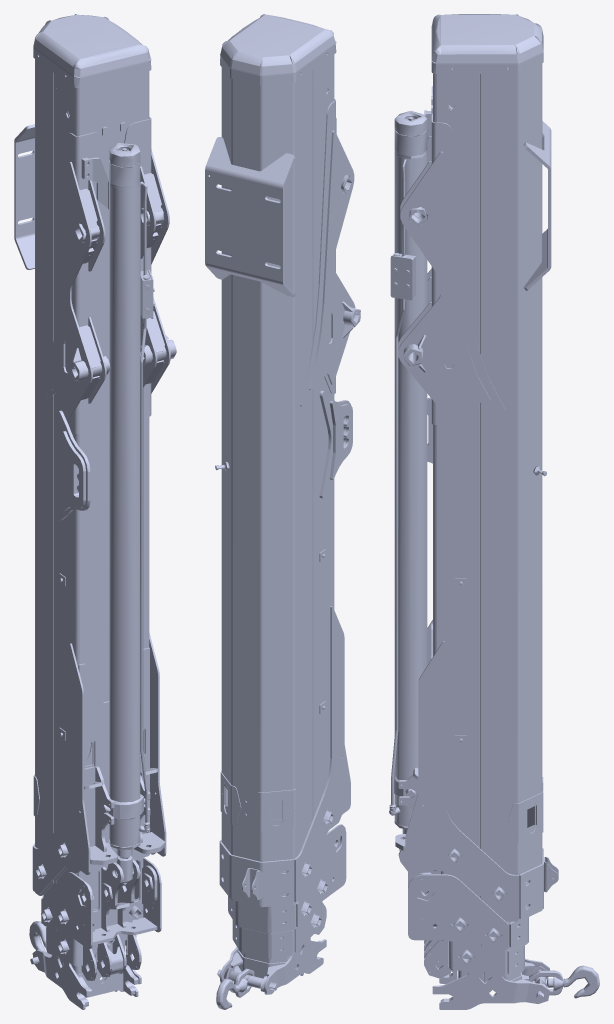
The model's file is braccio-m250.glb.
3 views of the same model, side by side, from view 1: azimuth 30°, elevation 25°; view 2: azimuth 150°, elevation 25°; view 3: azimuth 270°, elevation 25° (orthographic). The views are drawn at different scales.
Parts seen in each view (by area): view 1: LM0287, CN3543K_Q, LM0286, LM0294, LM0288 (×2), CR0082, LM0297 (×2), LM0289, LM0305 (×2), LM2725, VG1265_Q, LM0308 (×2) (+23 smaller); view 2: LM0286, LM0287, LM2725, CR0082, LM0288, LM0297, LM0292, LM0305, LM0294, LM0300 (×2), LM0315, LM0324 (+6 smaller); view 3: LM0286, LM0287, CN3543K_Q, LM0288, LM0297, CR0082, LM0305, LM0294, LM0329, VG1265_Q, LM2725, LM0318 (+8 smaller).
Part boxes in pixels (box(x1,y1,x2,y2)): LM0287: box(54, 71, 149, 882); CN3543K_Q: box(109, 182, 140, 847); LM0286: box(35, 59, 53, 895); LM0294: box(39, 116, 151, 433); LM0288 (×2): box(33, 632, 166, 894); CR0082: box(33, 14, 151, 88); LM0297 (×2): box(45, 149, 170, 418); LM0289: box(78, 647, 149, 871); LM0305 (×2): box(41, 857, 161, 949); LM2725: box(14, 124, 34, 269); VG1265_Q: box(140, 318, 148, 822); LM0308 (×2): box(101, 859, 140, 931); LM0286: box(221, 67, 312, 907); LM0287: box(312, 54, 334, 827); LM2725: box(205, 137, 295, 296); CR0082: box(220, 14, 336, 85); LM0288: box(294, 606, 350, 901); LM0297: box(309, 130, 355, 390); LM0292: box(219, 841, 294, 905); LM0305: box(296, 824, 346, 926); LM0294: box(300, 99, 335, 406); LM0300 (×2): box(220, 771, 300, 831); LM0315: box(228, 896, 295, 932); LM0324: box(232, 920, 292, 958); LM0286: box(480, 63, 542, 921); LM0287: box(433, 68, 479, 896); CN3543K_Q: box(394, 152, 427, 826); LM0288: box(405, 641, 518, 919); LM0297: box(398, 151, 490, 413); CR0082: box(431, 14, 543, 73); LM0305: box(408, 874, 508, 948); LM0294: box(431, 86, 506, 424); LM0329: box(432, 971, 549, 1009); VG1265_Q: box(391, 299, 405, 804); LM2725: box(523, 121, 551, 290); LM0318: box(449, 941, 505, 975).
Size of what is drawn, in the model's own units: 0.348 by 3.28 by 0.6456.
